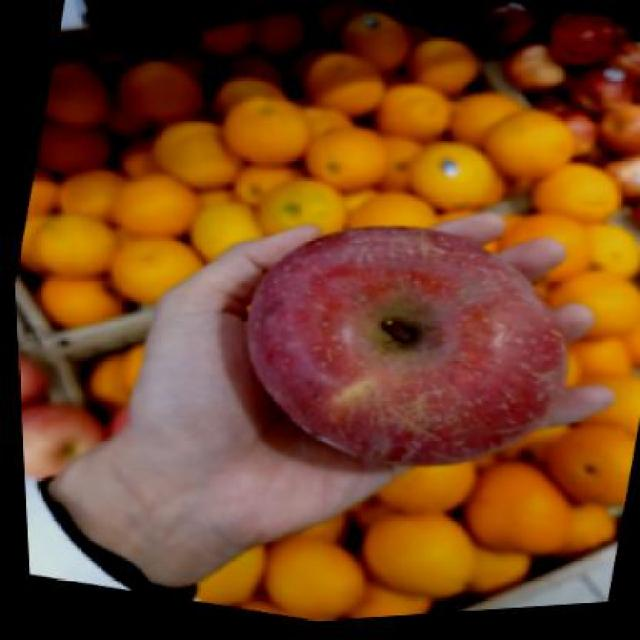Fresh Apple: (243, 226, 564, 468)
